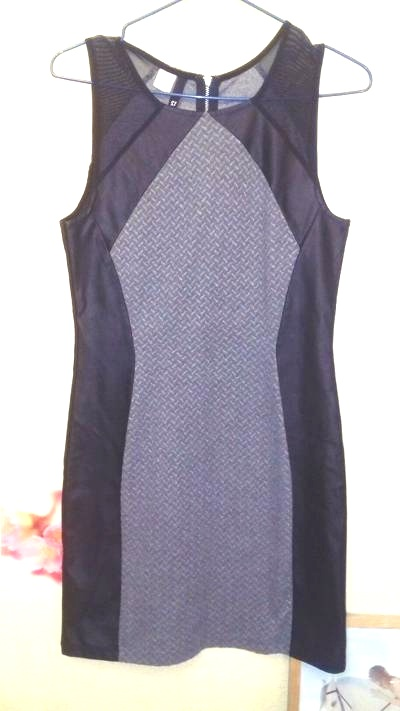Dress: (33, 6, 385, 679)
